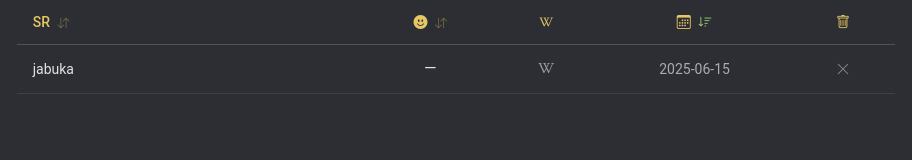
Test: FavoritesTable › non-phrasebook mode rendering › hides translation on mouse leave
Press the mouse on the cell "jabuka" at point(53, 69), box [17,44,367,94]
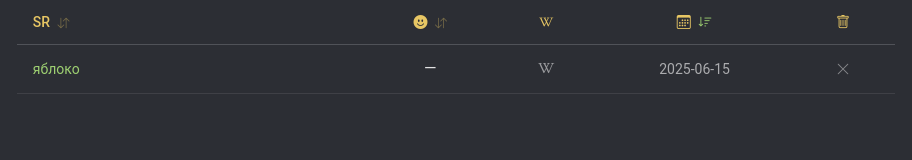
Check: the text "яблоко" is shown, box [33,61,80,77]
Move the pointer off the cell "яблоко", box [17,44,367,94]
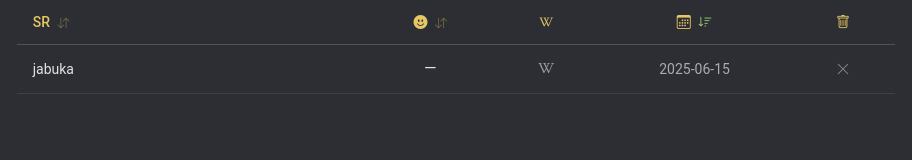
Check: the text "яблоко" is gone
